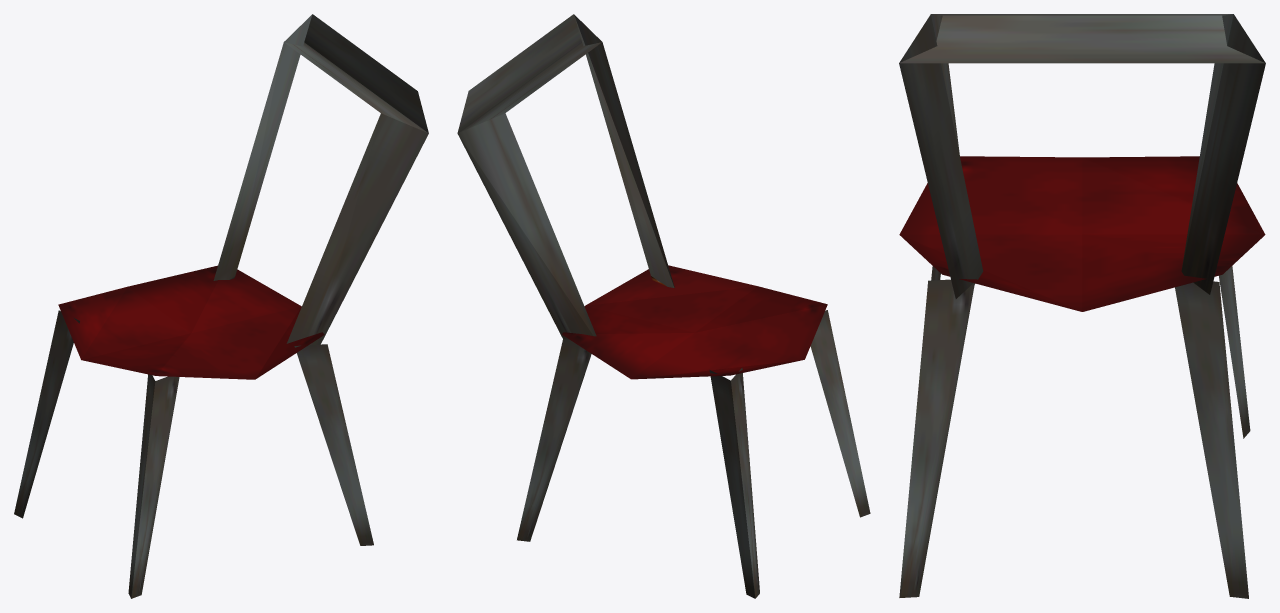
File: Stuhl_Mittel [Grau]_227.glb
The picture shows the model from 3 angles, left to right: view 1: azimuth 30°, elevation 25°; view 2: azimuth 150°, elevation 25°; view 3: azimuth 270°, elevation 25°; orthographic projection. The views are drawn at different scales.
Visible parts, largest first — view 1: pCylinderShape79, pPlaneShape56, pCylinderShape75, pCylinderShape78, pCylinderShape76; view 2: pCylinderShape79, pPlaneShape56, pCylinderShape76, pCylinderShape77, pCylinderShape75; view 3: pPlaneShape56, pCylinderShape79, pCylinderShape78, pCylinderShape77, pCylinderShape76.
Part boxes in pixels (left/top/right/bottom): pCylinderShape79: left=213, top=14, right=428, bottom=345; pPlaneShape56: left=58, top=265, right=324, bottom=379; pCylinderShape75: left=128, top=374, right=179, bottom=598; pCylinderShape78: left=294, top=344, right=373, bottom=545; pCylinderShape76: left=14, top=310, right=79, bottom=518; pCylinderShape79: left=457, top=14, right=674, bottom=339; pPlaneShape56: left=562, top=265, right=827, bottom=379; pCylinderShape76: left=709, top=368, right=759, bottom=598; pCylinderShape77: left=517, top=339, right=591, bottom=541; pCylinderShape75: left=810, top=310, right=870, bottom=517; pPlaneShape56: left=899, top=156, right=1265, bottom=311; pCylinderShape79: left=899, top=14, right=1265, bottom=298; pCylinderShape78: left=899, top=279, right=974, bottom=597; pCylinderShape77: left=1175, top=281, right=1248, bottom=598; pCylinderShape76: left=1219, top=266, right=1250, bottom=438.
Size of the model in its own units: 0.0953 by 0.1347 by 0.072.
Materials: 6 (6 with a texture image).
